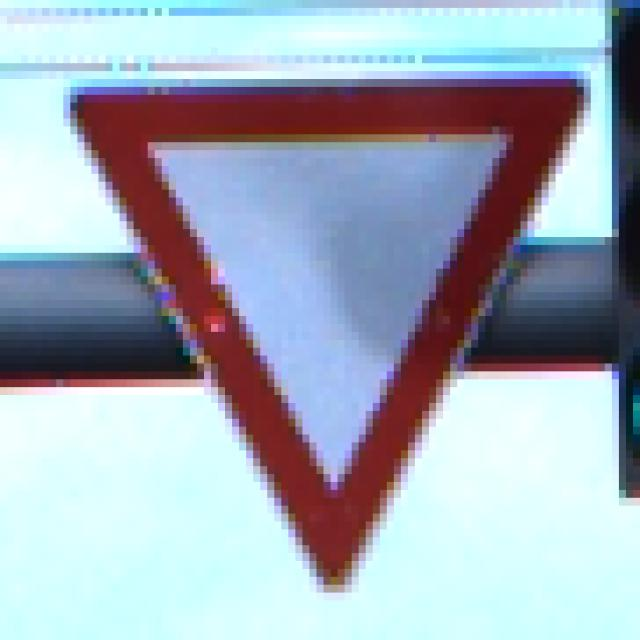Give Way: (57, 64, 585, 586)
